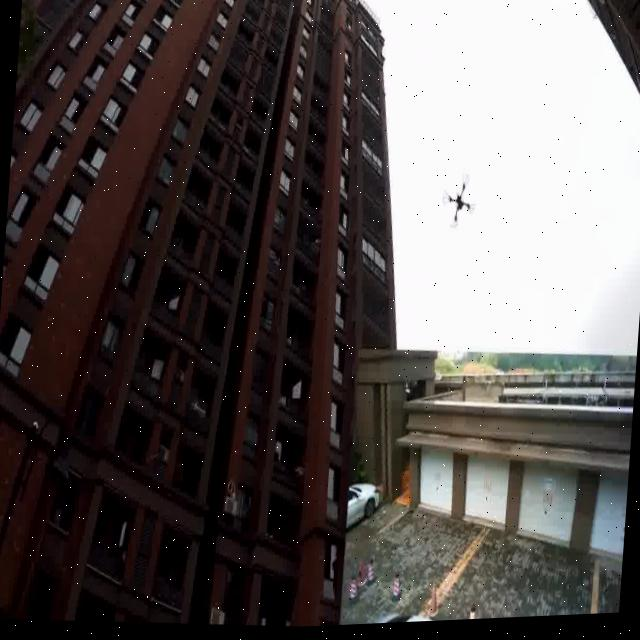drone: (443, 176, 478, 233)
